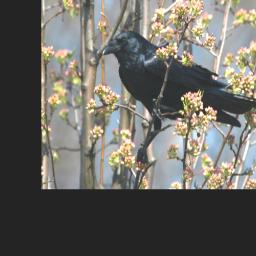Crow: (96, 27, 254, 161)
